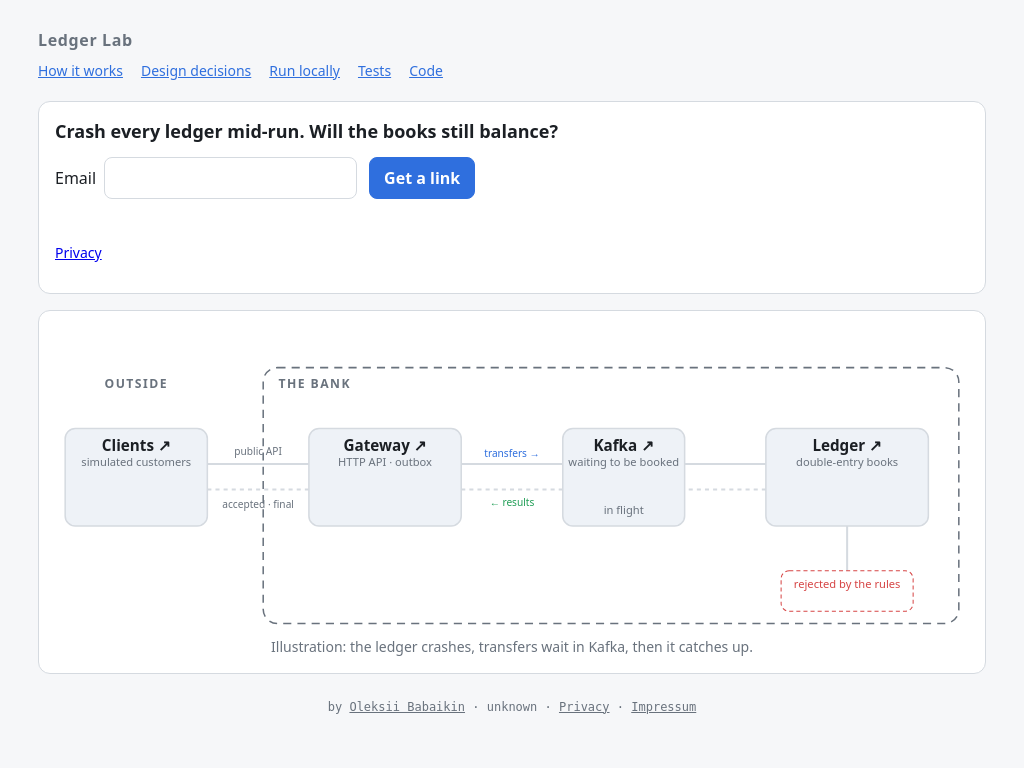
Test: the link form › names a 400 with another code in its own words and lets the visitor try again
The width and height of the screenshot is (1024, 768).
Type "visitor@example.org" into the field labelled "Email". click: (231, 178)
box: 104,157 -> 357,199
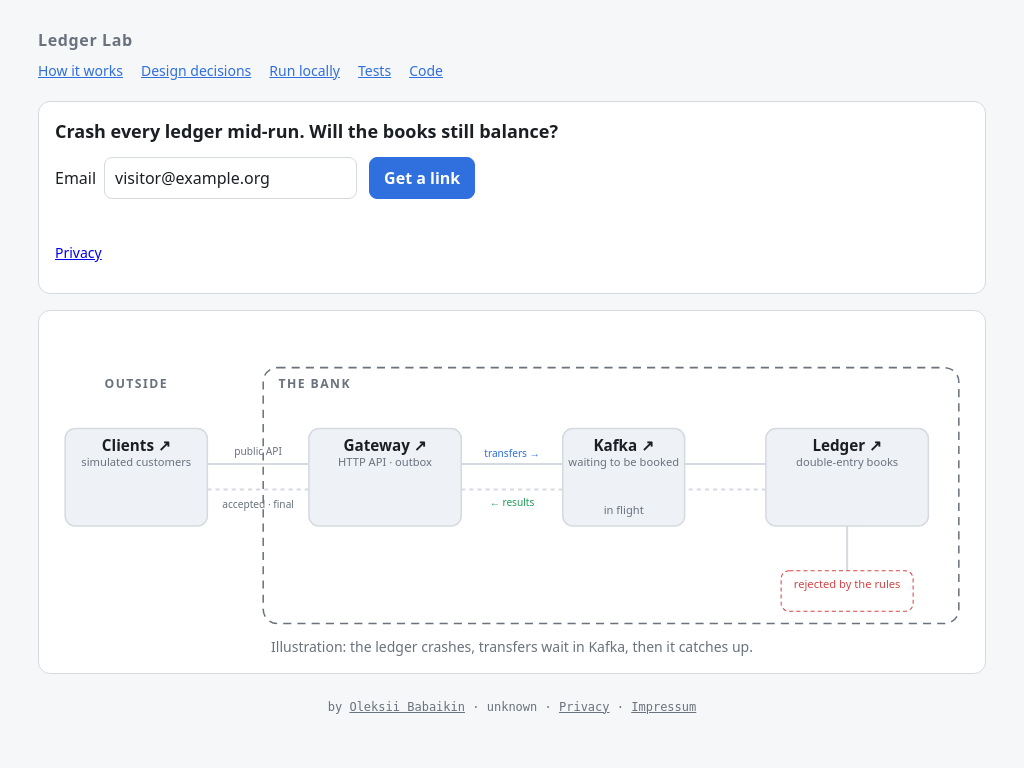
Click the button "Get a link". click: (422, 178)
box: 369,157 -> 475,199
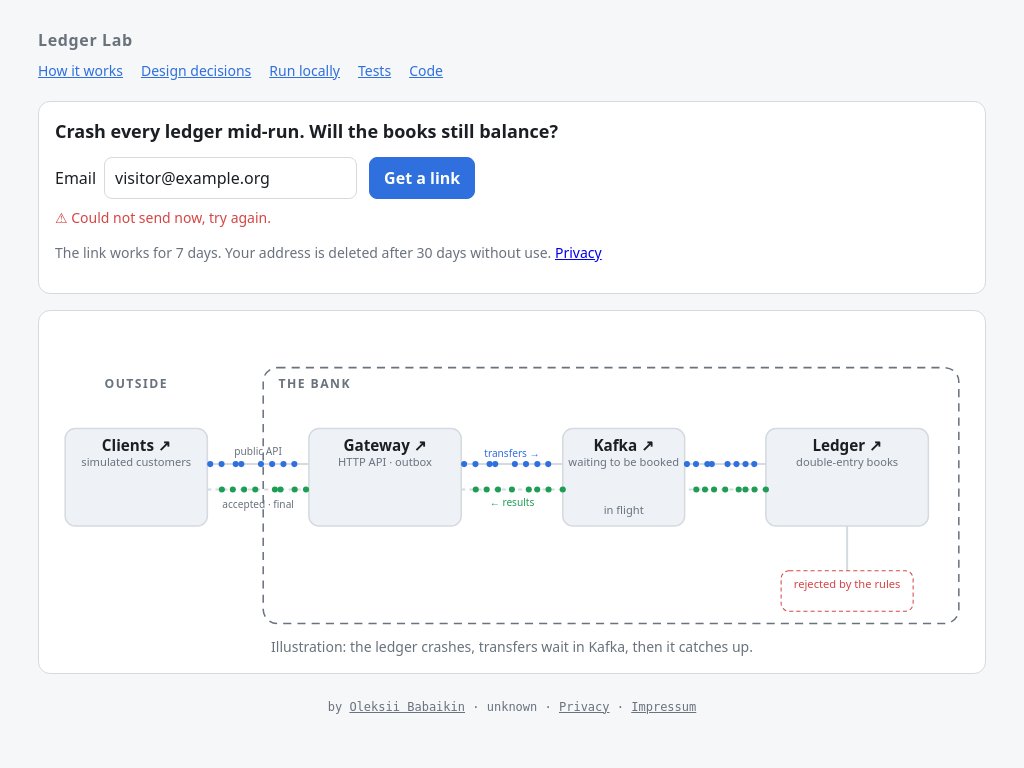
Result: the message shows "Could not send now, try again." at 71,208 -> 271,227
